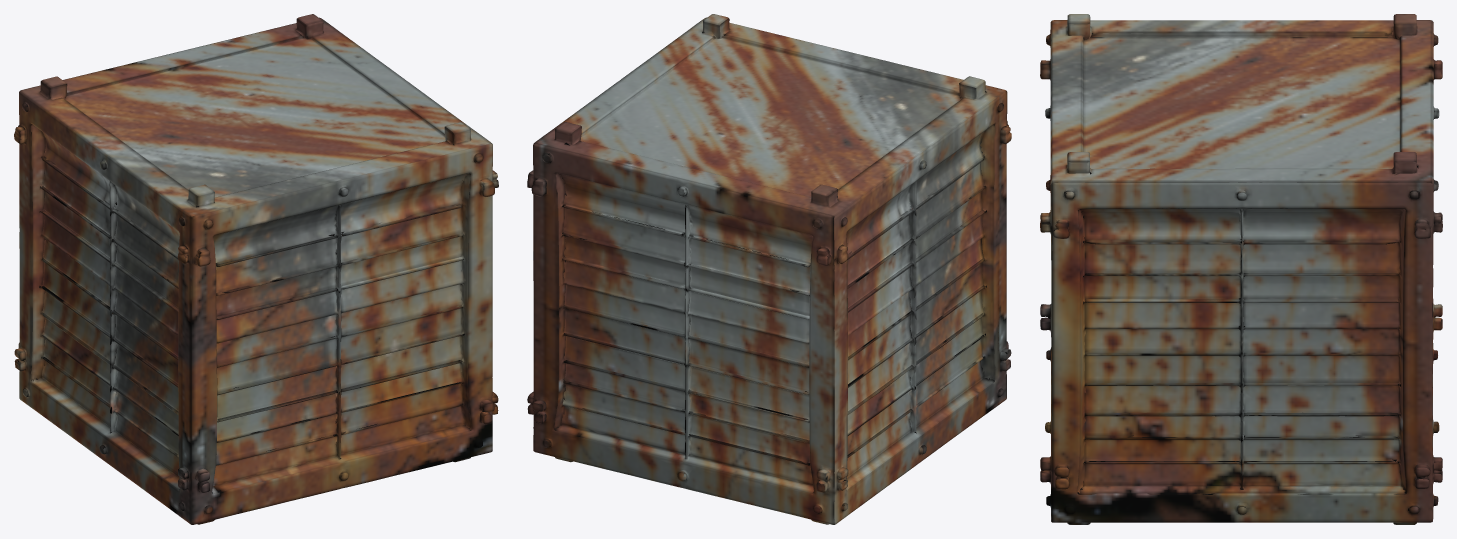
3 renders of one model, left to right at view 1: azimuth 30°, elevation 25°; view 2: azimuth 150°, elevation 25°; view 3: azimuth 270°, elevation 25°, orthographic. The views are drawn at different scales.
Parts seen in each view (by area): view 1: source; view 2: source; view 3: source.
Part boxes in pixels (x1,y1,x2,y2): source: [14, 14, 498, 524]; source: [527, 14, 1011, 524]; source: [1040, 14, 1442, 524].
Size of the model in its own units: 1.9 by 1.9 by 1.9.
1 material, 1 textured.
